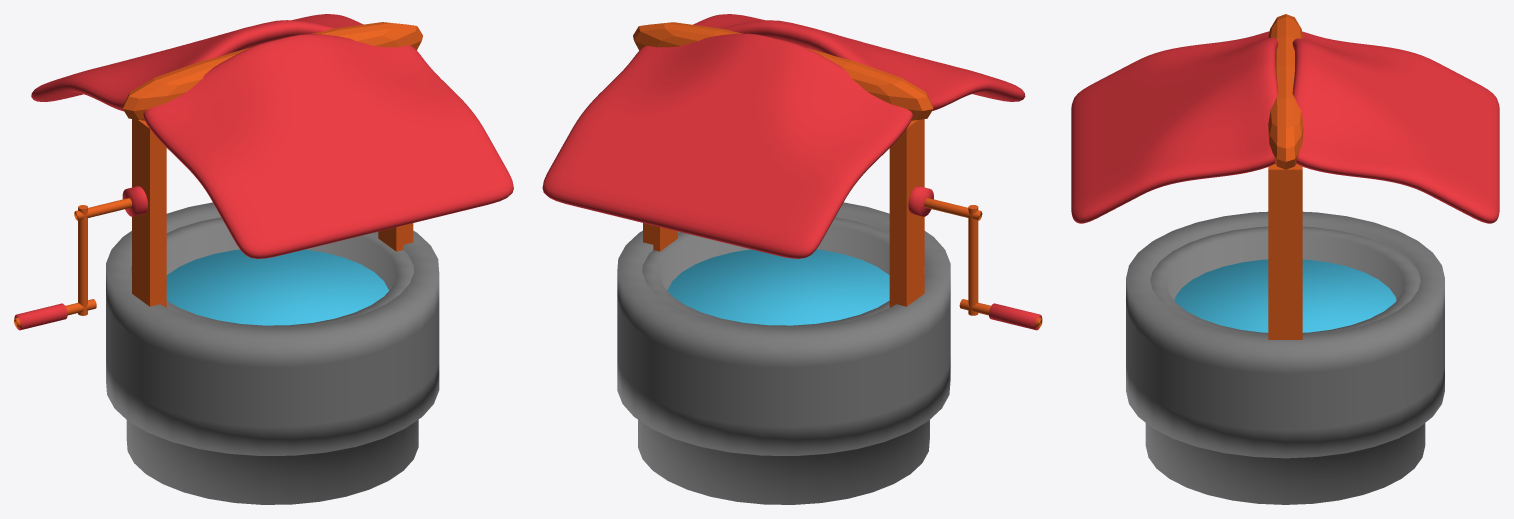
Rendered from Puit.fbx.
The picture shows the model from 3 angles, left to right: view 1: azimuth 30°, elevation 25°; view 2: azimuth 150°, elevation 25°; view 3: azimuth 270°, elevation 25°; orthographic projection. The views are drawn at different scales.
Visible parts, largest first — view 1: Cube, Cylinder.003, Cylinder, Cylinder.002, Cube.003, Cube.001, Cube.002, Cylinder.005, Cylinder.008, Cylinder.006, Cylinder.004; view 2: Cube.003, Cylinder.003, Cylinder, Cylinder.002, Cube, Cube.001, Cube.002, Cylinder.005, Cylinder.008, Cylinder.006, Cylinder.004; view 3: Cylinder.003, Cube, Cube.003, Cylinder, Cylinder.002, Cube.001, Cube.002.
Part boxes in pixels (<box>): Cube: <box>143,34,513,258</box>; Cylinder.003: <box>106,202,439,455</box>; Cylinder: <box>126,217,418,504</box>; Cylinder.002: <box>166,249,388,325</box>; Cube.003: <box>31,14,363,111</box>; Cube.001: <box>132,119,413,307</box>; Cube.002: <box>122,22,422,120</box>; Cylinder.005: <box>78,205,87,315</box>; Cylinder.008: <box>14,303,67,330</box>; Cylinder.006: <box>74,198,132,220</box>; Cylinder.004: <box>122,186,147,216</box>; Cube.003: <box>542,33,912,258</box>; Cylinder.003: <box>617,202,950,455</box>; Cylinder: <box>638,217,929,504</box>; Cylinder.002: <box>667,249,889,325</box>; Cube: <box>693,14,1025,110</box>; Cube.001: <box>643,119,924,307</box>; Cube.002: <box>633,22,933,120</box>; Cylinder.005: <box>968,205,978,315</box>; Cylinder.008: <box>989,303,1042,330</box>; Cylinder.006: <box>924,198,982,220</box>; Cylinder.004: <box>908,186,933,216</box>; Cylinder.003: <box>1126,211,1444,458</box>; Cube: <box>1071,31,1278,223</box>; Cube.003: <box>1292,31,1499,223</box>; Cylinder: <box>1145,226,1425,504</box>; Cylinder.002: <box>1174,259,1396,332</box>; Cube.001: <box>1268,164,1302,339</box>; Cube.002: <box>1268,14,1303,169</box>.
Size of the model in its own units: 352 by 340 by 337.
